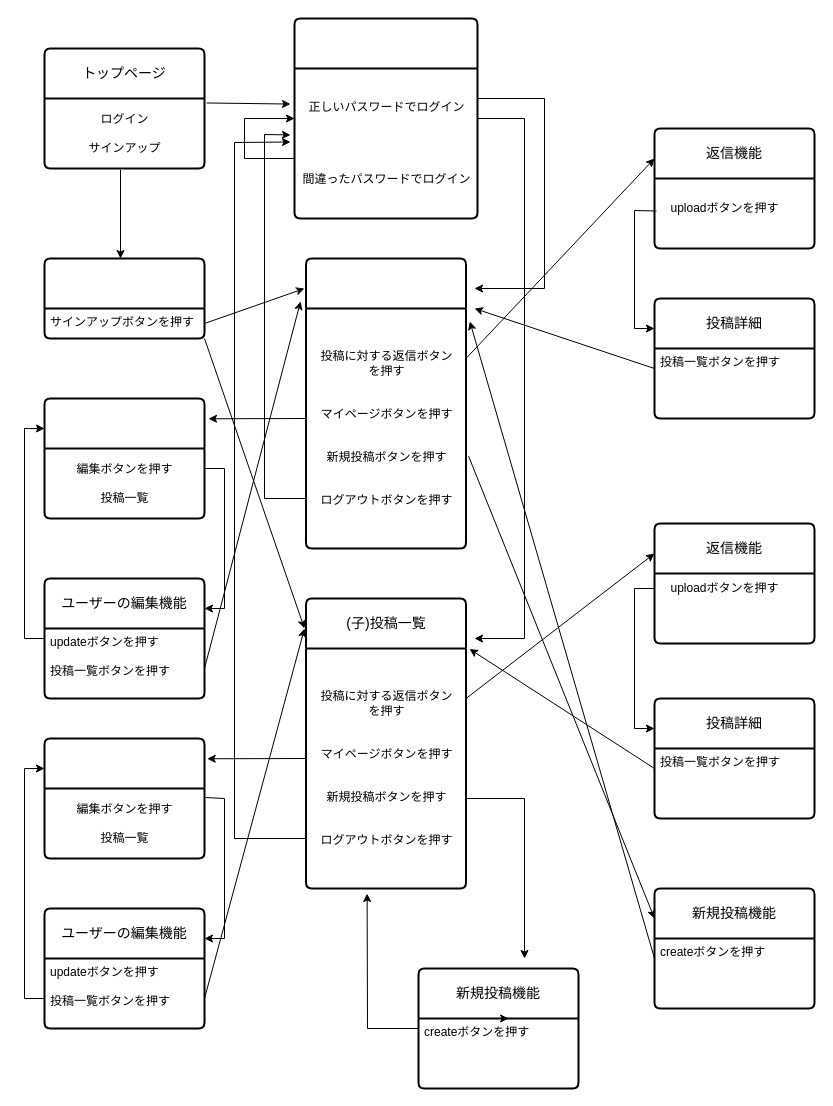
Some shapes in this 833 by 1106 pixel diagram are drawn without their labels. The box of each missing label's shape, as (x1, y1, x2, y2) in pixels:
(子)マイページ: (43, 737, 205, 859)
(親)マイページ: (43, 397, 205, 519)
(親)投稿一覧: (304, 257, 466, 549)
サインアップ機能: (43, 257, 205, 339)
ログイン機能: (293, 17, 478, 219)
